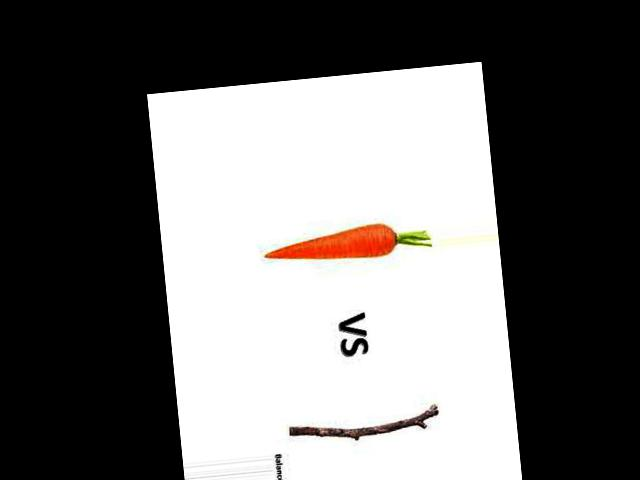carrot: (258, 215, 402, 277)
